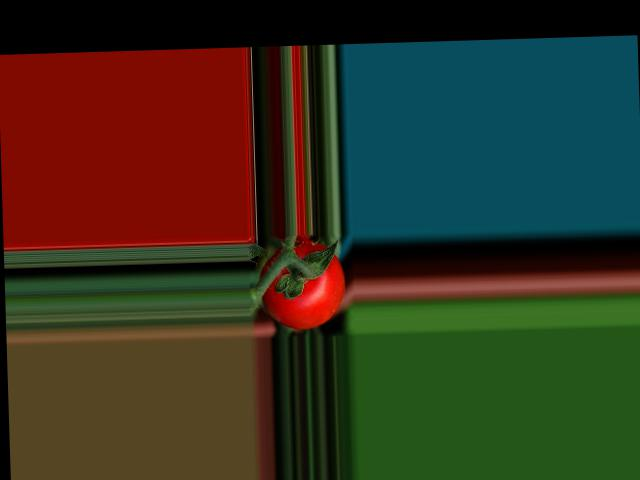tomato: (258, 235, 346, 330)
